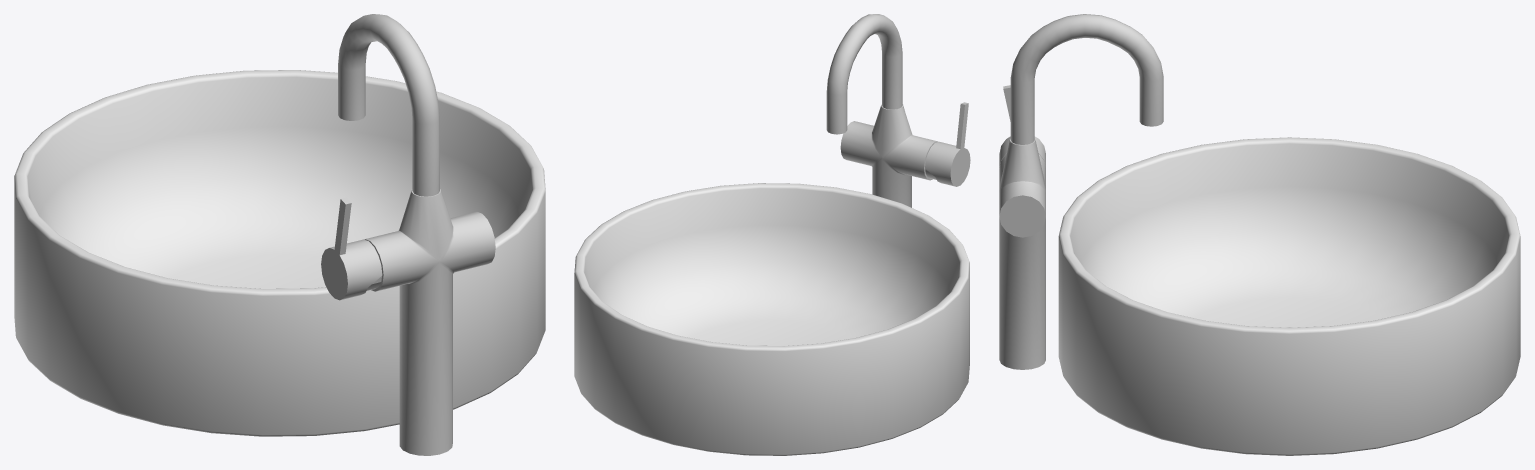
File: WashBasin05.fbx
The picture shows the model from 3 angles, left to right: view 1: azimuth 30°, elevation 25°; view 2: azimuth 150°, elevation 25°; view 3: azimuth 270°, elevation 25°; orthographic projection. The views are drawn at different scales.
Visible parts, largest first — view 1: WashBasin05, Faucet05, FaucetLever05; view 2: WashBasin05, Faucet05, FaucetLever05; view 3: WashBasin05, Faucet05.
Part boxes in pixels (x1,y1,x2,y2): WashBasin05: (14, 70, 545, 436); Faucet05: (338, 14, 495, 455); FaucetLever05: (321, 197, 382, 300); WashBasin05: (574, 183, 969, 455); Faucet05: (826, 14, 937, 207); FaucetLever05: (925, 102, 970, 186); WashBasin05: (1058, 137, 1520, 455); Faucet05: (999, 14, 1163, 369).
Bounding box in the file's own units: 52.14 × 42.97 × 58.83.
